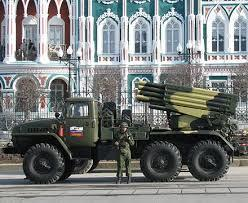MIL_SAM_TEL: (8, 82, 238, 181)
